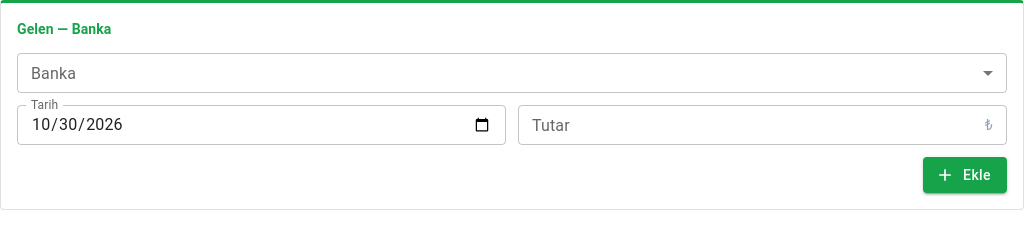
Test: CariHareketFormu › gelen ödemede banka zorunlu, belge yükleme yok
Type "100" into the field labelled "Tutar" at (750, 125), box [518, 105, 981, 145]
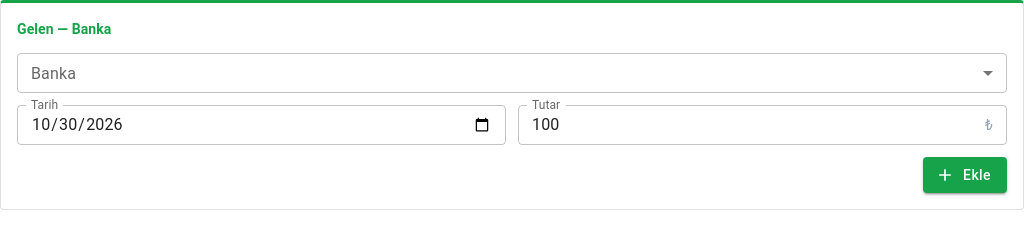
Click the button "Ekle" at (965, 175), box [923, 157, 1007, 194]
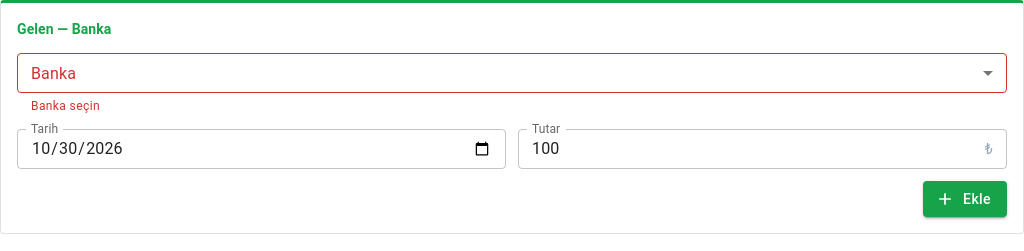
Check: the text "Banka seçin" is shown, box [31, 99, 100, 113]
